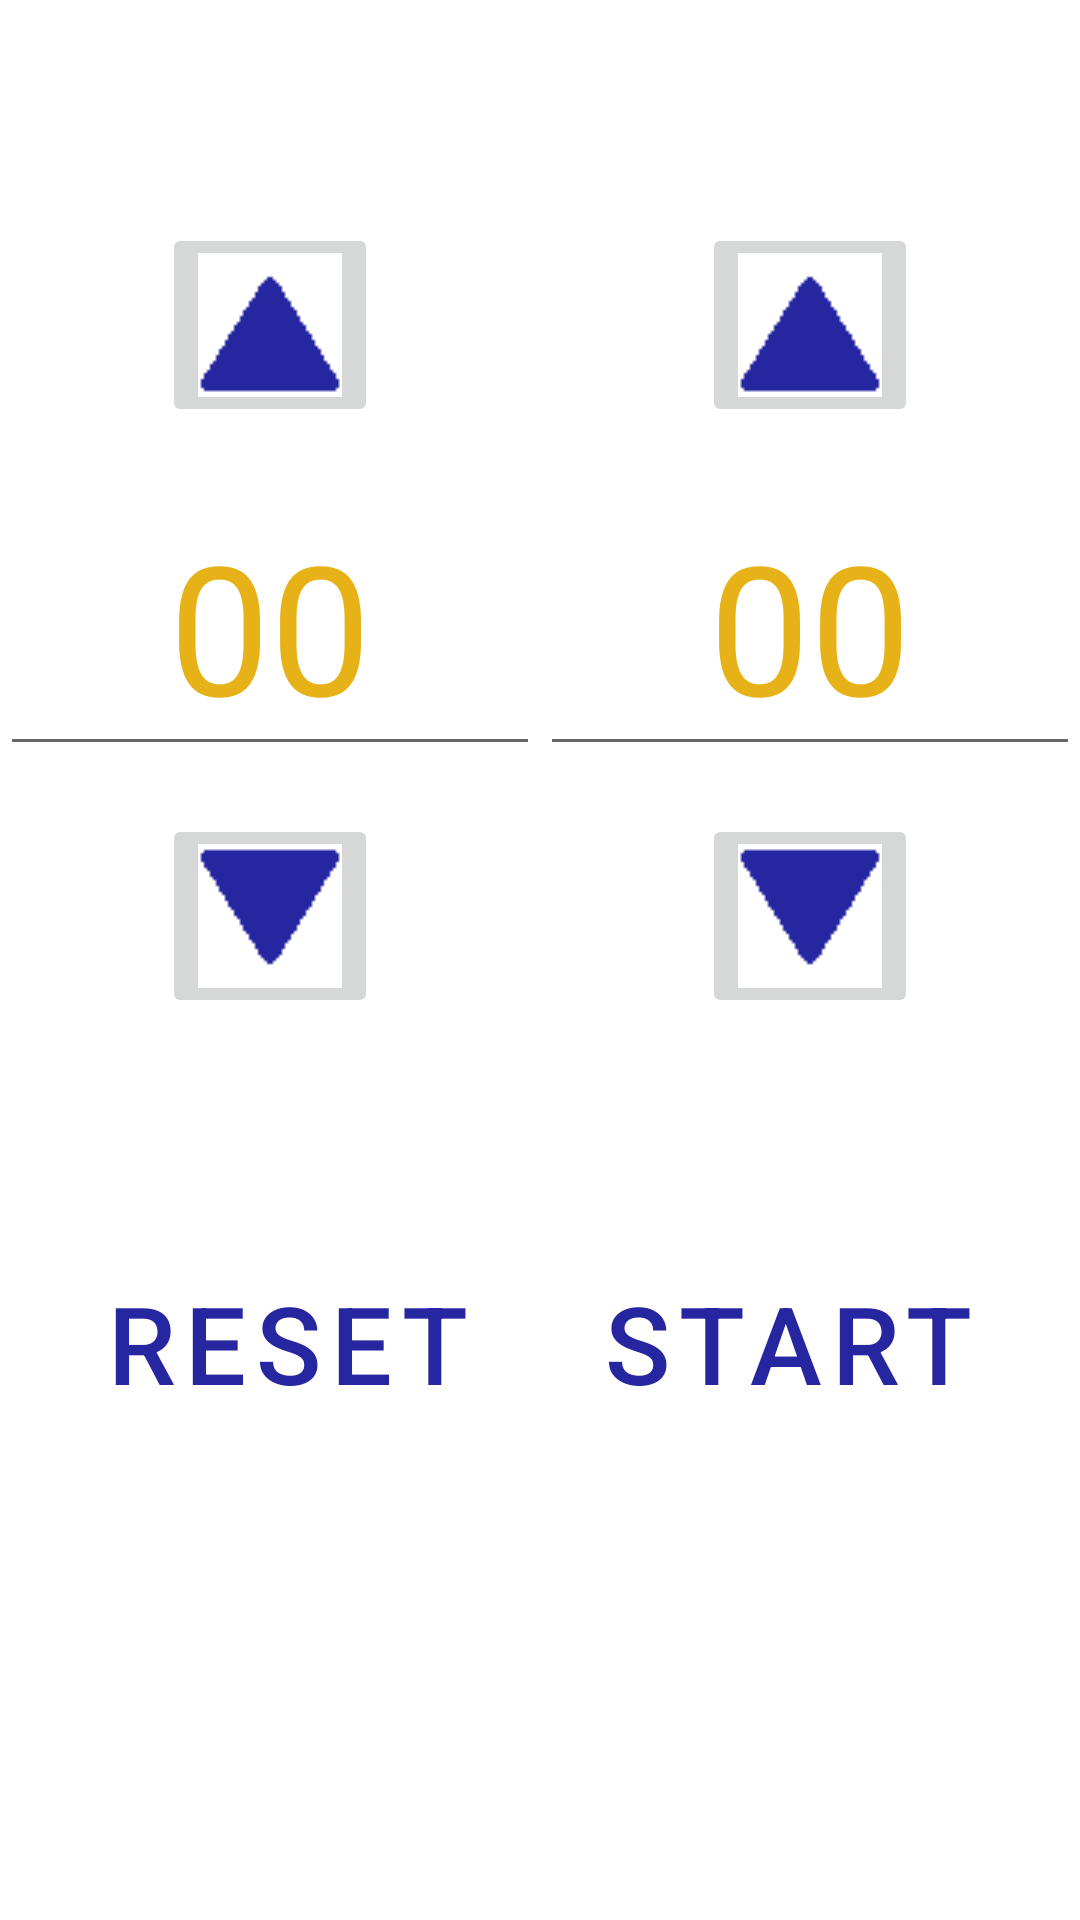

Screen size 1080w x 1920h. Icon name, then its box in pixels as bbox(x1, y1, x2, y2):
down: bbox(174, 832, 366, 1000), bbox(714, 832, 906, 1000)
